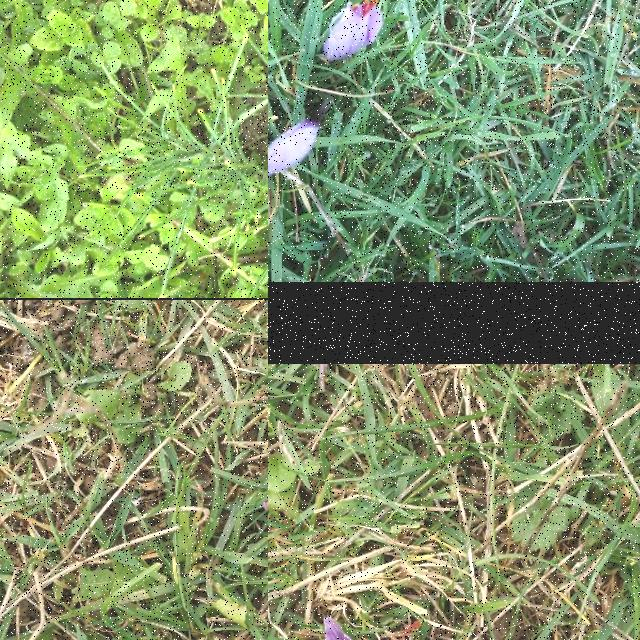flower: (323, 0, 382, 65), (268, 112, 321, 181)
